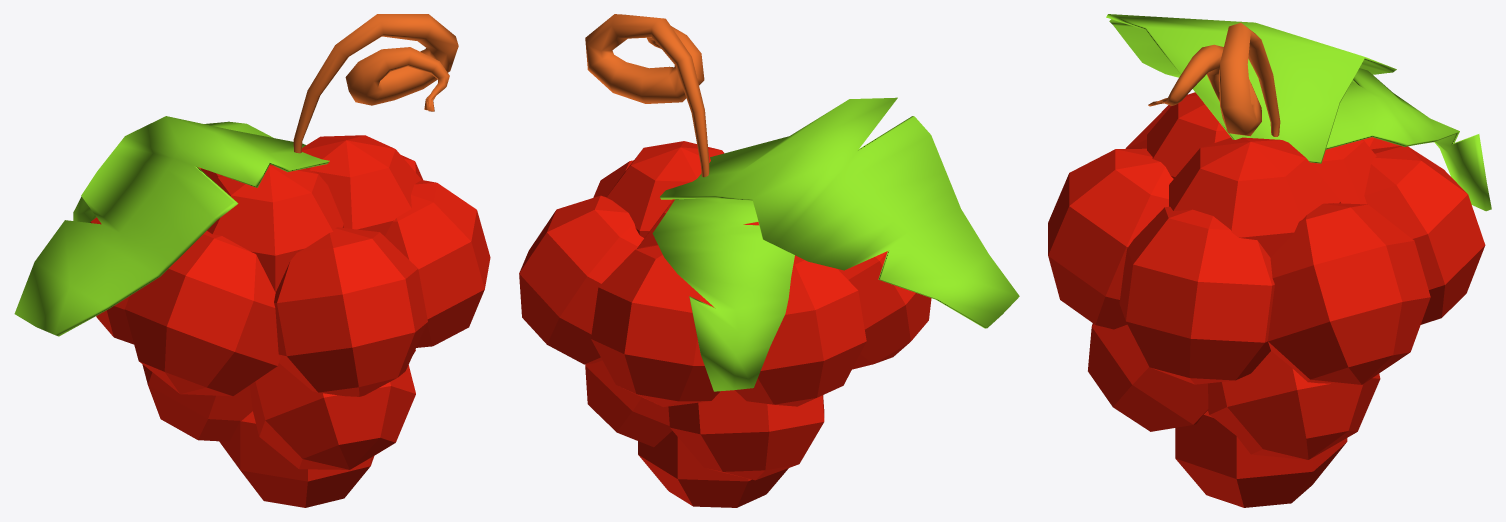
Rendered from grape_purple.fbx.
3 renders of one model, left to right at view 1: azimuth 30°, elevation 25°; view 2: azimuth 150°, elevation 25°; view 3: azimuth 270°, elevation 25°, orthographic. The views are drawn at different scales.
Visible parts, largest first — view 1: Leaves; view 2: Leaves; view 3: Leaves.
Boxes of the visible parts, x1,y1,x2,y2 form: Leaves: (14,14,490,507); Leaves: (519,14,1019,507); Leaves: (1048,14,1491,507).
Size of the model in its own units: 581 by 597 by 466.
